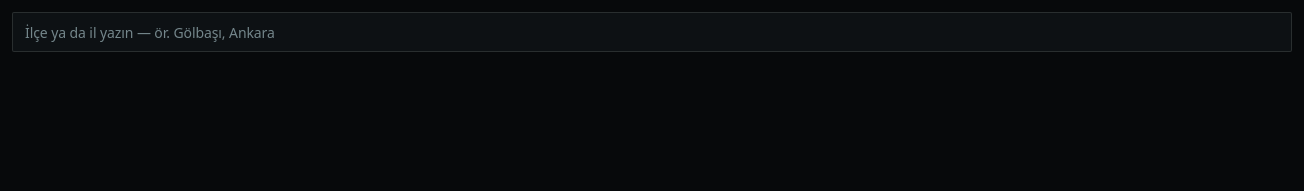
Scenario: LocationTypeahead · il geneli › il seçimi ilçeyi BOŞALTIYOR
Later steps or results of the test are not shown.
In the search field: (652, 32) [12,12,1292,52], type "ankara"
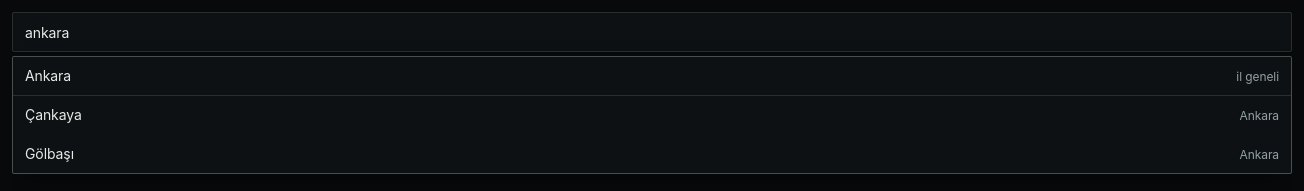
Result: the text "il geneli" is shown at [1236,68,1279,85]
